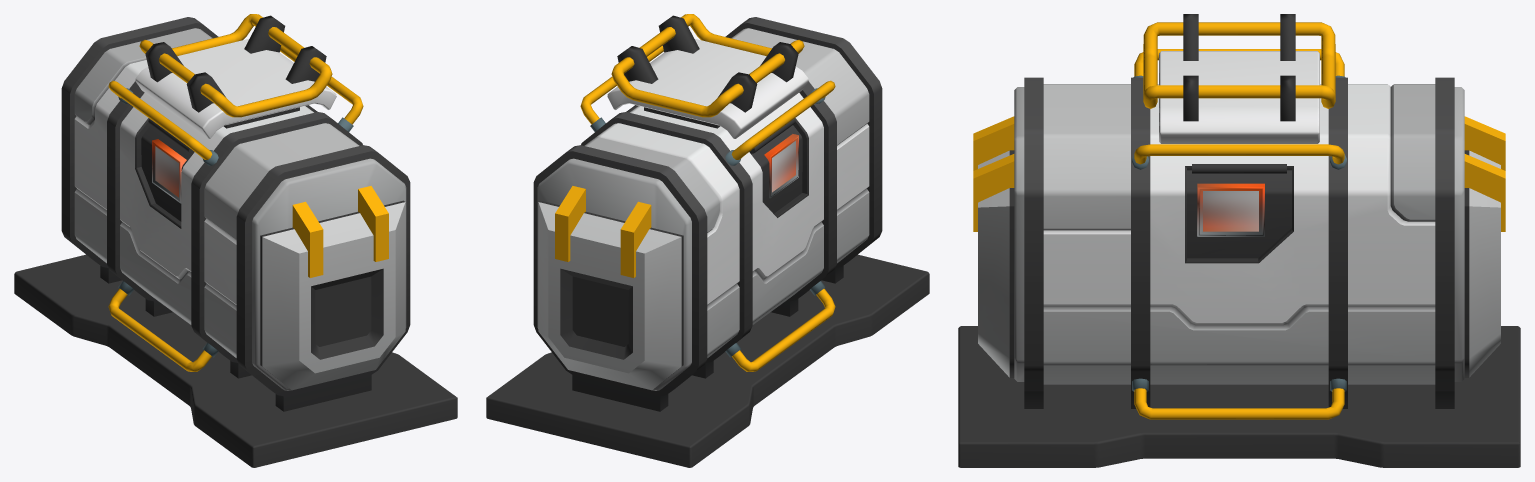
Rendered from Generator_016.fbx.
3 renders of one model, left to right at view 1: azimuth 30°, elevation 25°; view 2: azimuth 150°, elevation 25°; view 3: azimuth 270°, elevation 25°, orthographic. The views are drawn at different scales.
Parts seen in each view (by area): view 1: Generator_016; view 2: Generator_016; view 3: Generator_016.
Part boxes in pixels (box(x1,y1,x2,y2)): Generator_016: box(14, 14, 457, 467); Generator_016: box(486, 14, 929, 467); Generator_016: box(958, 14, 1520, 467).
Size of the model in its own units: 153 by 309 by 219.
